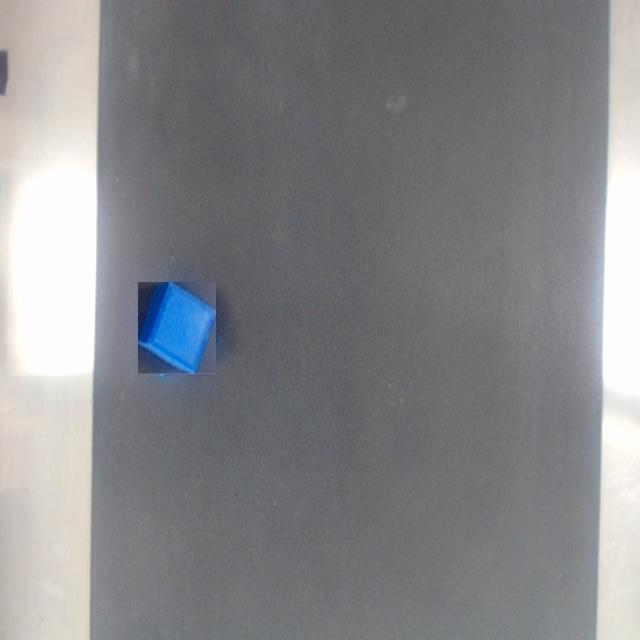Azul: (138, 282, 216, 373)
